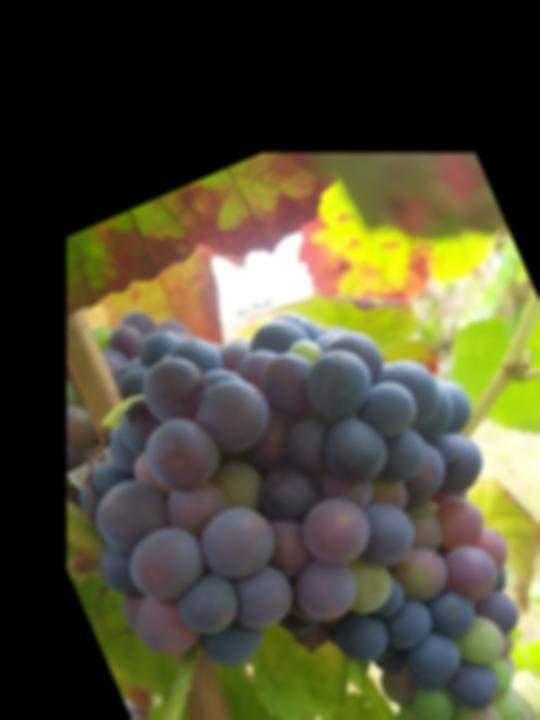grape: (22, 239, 540, 720)
